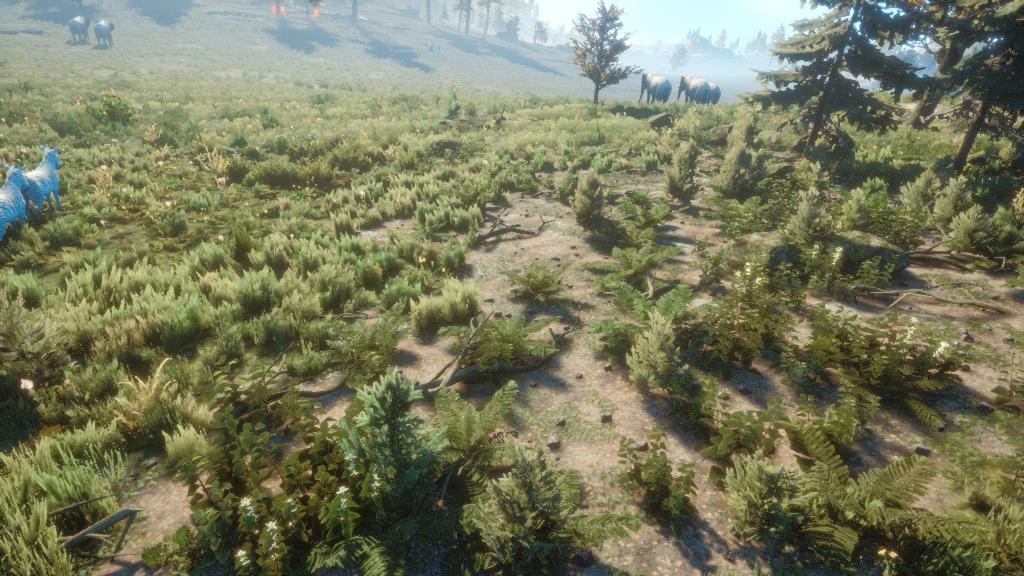Fire: (267, 6, 291, 18), (307, 9, 324, 23)
elephant: (620, 62, 674, 107), (678, 69, 714, 110), (64, 5, 89, 57), (92, 10, 119, 54)
zebra: (23, 139, 79, 224)
